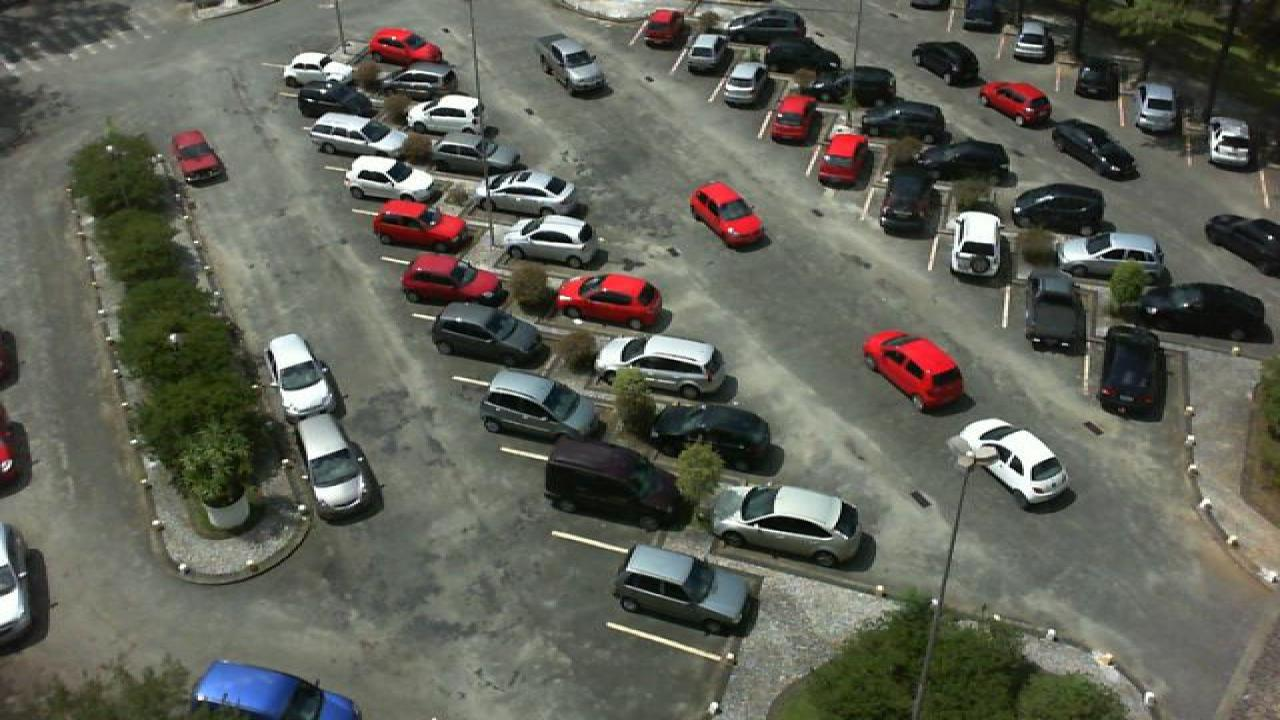Car: (540, 438, 688, 530), (710, 480, 868, 566), (614, 544, 756, 634), (186, 657, 366, 720), (588, 334, 730, 402), (296, 409, 380, 521), (480, 369, 606, 443), (1128, 281, 1272, 342), (648, 402, 778, 469), (428, 302, 552, 366), (1094, 325, 1168, 420), (264, 332, 340, 422), (554, 270, 670, 327), (490, 214, 604, 269), (1052, 227, 1168, 281), (1046, 116, 1140, 181), (398, 251, 508, 306), (1024, 270, 1088, 356), (370, 198, 474, 249), (872, 170, 948, 238), (340, 154, 440, 203), (478, 169, 582, 215), (534, 33, 612, 94), (1204, 212, 1280, 274), (948, 208, 1008, 286), (0, 522, 36, 651), (302, 112, 406, 156), (1010, 182, 1108, 228), (426, 132, 522, 176), (978, 79, 1054, 128), (808, 65, 896, 107), (920, 138, 1012, 178), (860, 99, 956, 137), (404, 93, 488, 135), (910, 38, 980, 88), (814, 131, 874, 189), (168, 128, 226, 184), (292, 81, 378, 118), (752, 37, 842, 72), (1202, 114, 1258, 170), (1128, 79, 1182, 134), (764, 93, 820, 146), (282, 50, 360, 88), (366, 27, 446, 63), (722, 8, 810, 39), (382, 64, 458, 99), (678, 32, 736, 76), (1006, 16, 1060, 63), (1072, 54, 1122, 101), (720, 61, 768, 109), (638, 8, 684, 49), (962, 0, 1008, 32)
